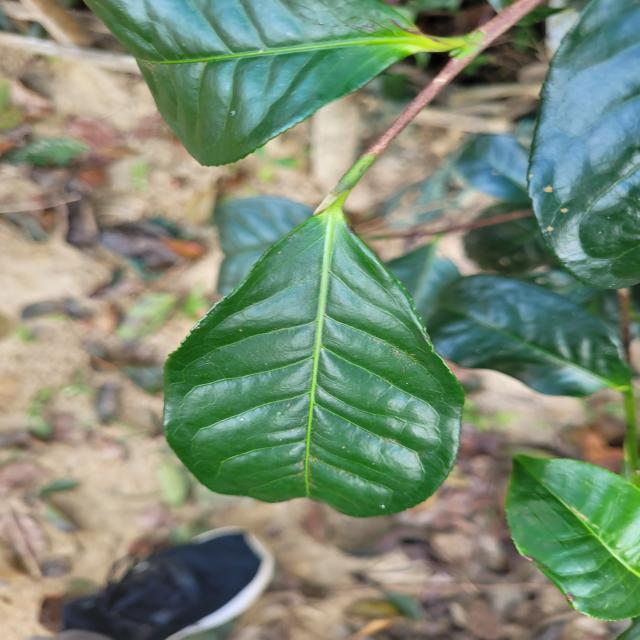Category D 7+ days, Not for Tea: (147, 174, 475, 528)
